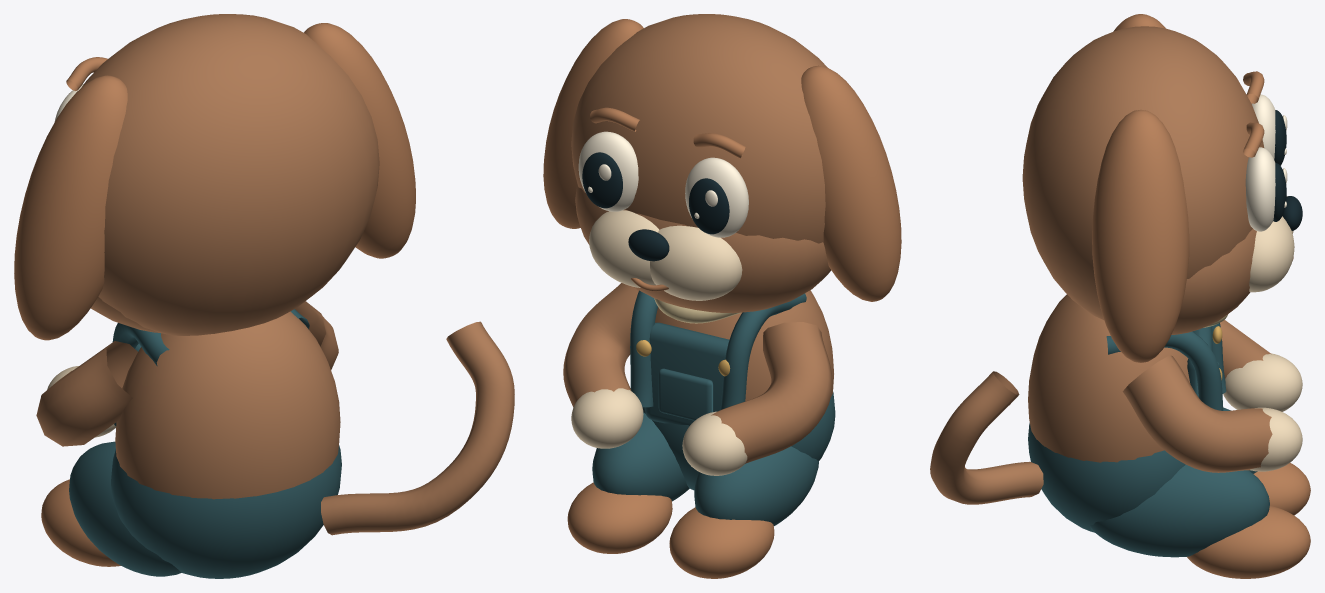
The model's file is chien.glb.
3 views of the same model, side by side, from view 1: azimuth 30°, elevation 25°; view 2: azimuth 150°, elevation 25°; view 3: azimuth 270°, elevation 25° (orthographic). The views are drawn at different scales.
Parts seen in each view (by area): view 1: Crâne, Buste, Oreille tombante, Salopette, Chaussure; view 2: Crâne, Salopette, Oreille tombante, Buste, Chaussure, Museau, Patte, Blanc, Blanc.001, Iris, Iris.001, Nez (+1 smaller); view 3: Crâne, Buste, Oreille tombante, Salopette, Chaussure, Patte, Museau, Blanc.001, Blanc, Iris.001, Iris, Nez.
Boxes of the visible parts, x1=… form: Crâne: x1=81, y1=14, x2=379, y2=335; Buste: x1=36, y1=301, x2=514, y2=535; Oreille tombante: x1=14, y1=23, x2=415, y2=340; Salopette: x1=69, y1=309, x2=341, y2=578; Chaussure: x1=41, y1=479, x2=120, y2=566; Crâne: x1=571, y1=14, x2=831, y2=313; Salopette: x1=592, y1=290, x2=835, y2=525; Oreille tombante: x1=543, y1=19, x2=901, y2=301; Buste: x1=563, y1=283, x2=833, y2=463; Chaussure: x1=567, y1=482, x2=774, y2=578; Museau: x1=589, y1=210, x2=742, y2=300; Patte: x1=571, y1=388, x2=747, y2=475; Blanc: x1=685, y1=157, x2=748, y2=237; Blanc.001: x1=578, y1=131, x2=638, y2=211; Iris: x1=689, y1=178, x2=729, y2=234; Iris.001: x1=582, y1=152, x2=622, y2=208; Nez: x1=628, y1=229, x2=669, y2=261; Crâne: x1=1022, y1=26, x2=1264, y2=334; Buste: x1=930, y1=294, x2=1272, y2=504; Oreille tombante: x1=1092, y1=14, x2=1293, y2=362; Salopette: x1=1028, y1=323, x2=1269, y2=557; Chaussure: x1=1187, y1=462, x2=1310, y2=578; Patte: x1=1223, y1=353, x2=1302, y2=471; Museau: x1=1249, y1=196, x2=1294, y2=292; Blanc.001: x1=1245, y1=147, x2=1287, y2=231; Blanc: x1=1252, y1=94, x2=1287, y2=159; Iris.001: x1=1273, y1=163, x2=1286, y2=221; Iris: x1=1274, y1=110, x2=1286, y2=165; Nez: x1=1282, y1=196, x2=1302, y2=230.
Size of the model in its own units: 1.52 by 2.05 by 1.4.
